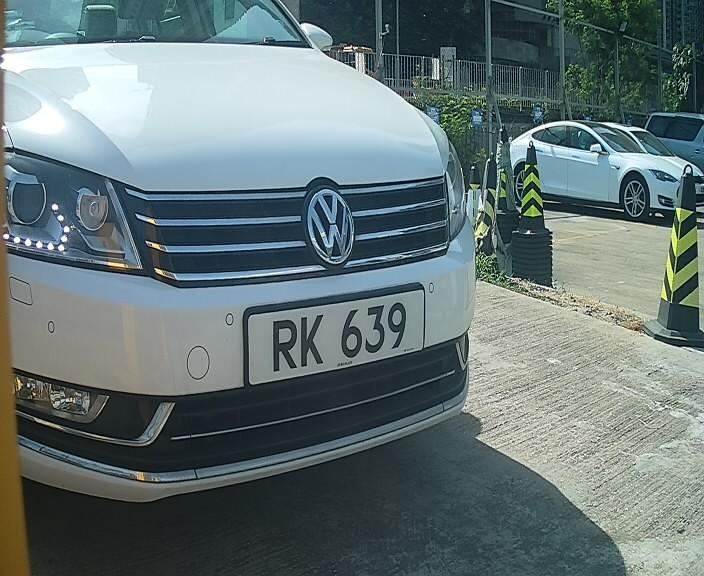privatecar: (13, 19, 516, 499)
